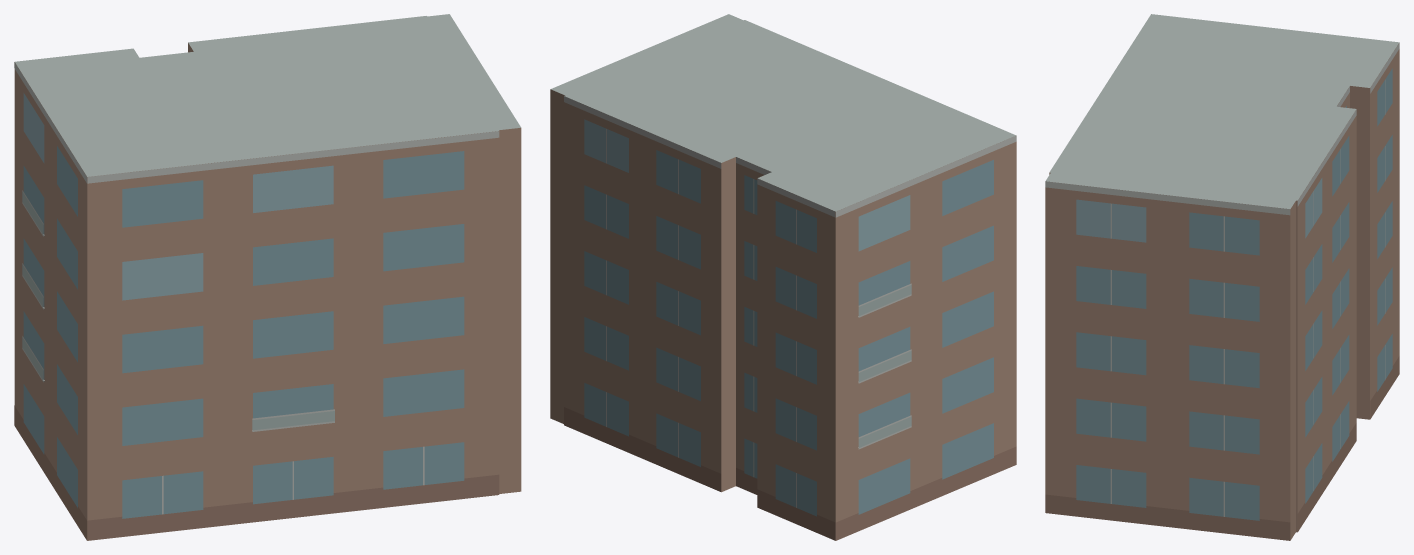
The model's file is survey-upis-32871127.glb.
3 views of the same model, side by side, from view 1: azimuth 30°, elevation 25°; view 2: azimuth 150°, elevation 25°; view 3: azimuth 270°, elevation 25° (orthographic). The views are drawn at different scales.
Parts seen in each view (by area): view 1: survey-upis-32871127.tmp; view 2: survey-upis-32871127.tmp; view 3: survey-upis-32871127.tmp.
Boxes of the visible parts, left/top/right/bottom form: survey-upis-32871127.tmp: left=14, top=14, right=521, bottom=540; survey-upis-32871127.tmp: left=550, top=14, right=1016, bottom=540; survey-upis-32871127.tmp: left=1045, top=14, right=1399, bottom=540.
Size of the model in its own units: 16.67 by 13.2 by 12.78.
